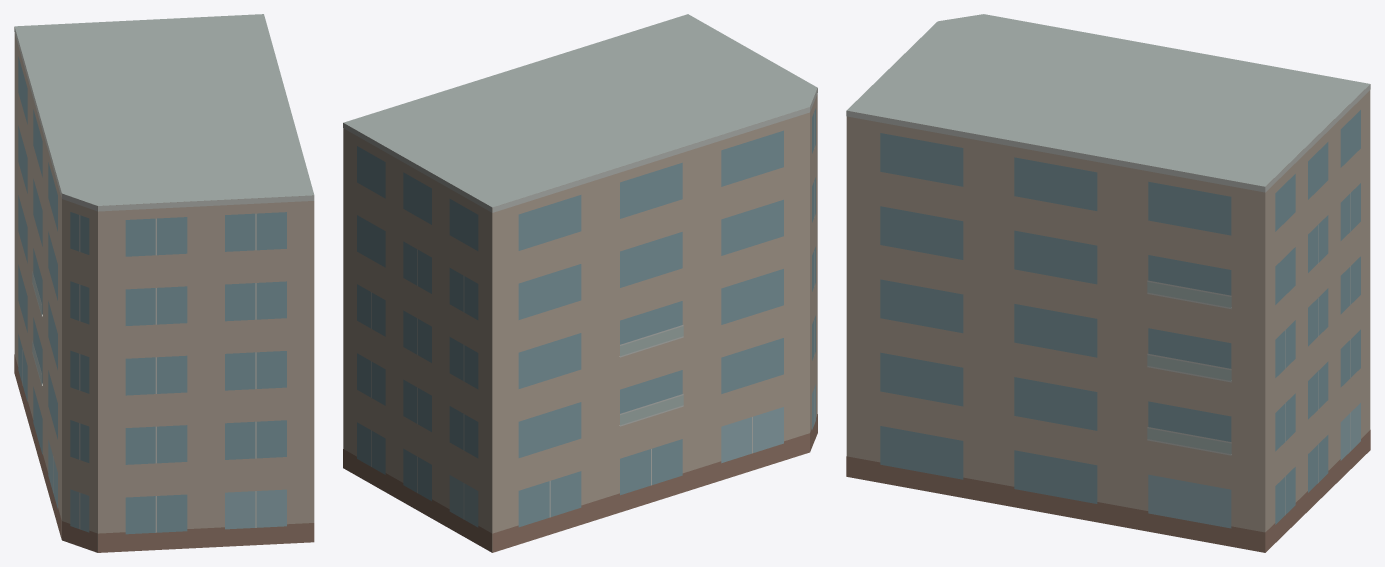
File: survey-upis-32817318.glb
3 renders of one model, left to right at view 1: azimuth 30°, elevation 25°; view 2: azimuth 150°, elevation 25°; view 3: azimuth 270°, elevation 25°, orthographic. The views are drawn at different scales.
Visible parts, largest first — view 1: survey-upis-32817318.tmp; view 2: survey-upis-32817318.tmp; view 3: survey-upis-32817318.tmp.
Boxes of the visible parts, x1=… form: survey-upis-32817318.tmp: x1=14, y1=14, x2=314, y2=552; survey-upis-32817318.tmp: x1=343, y1=14, x2=817, y2=552; survey-upis-32817318.tmp: x1=846, y1=14, x2=1370, y2=552.
Bounding box in the file's own units: 15.59 × 15.4 × 19.99.
